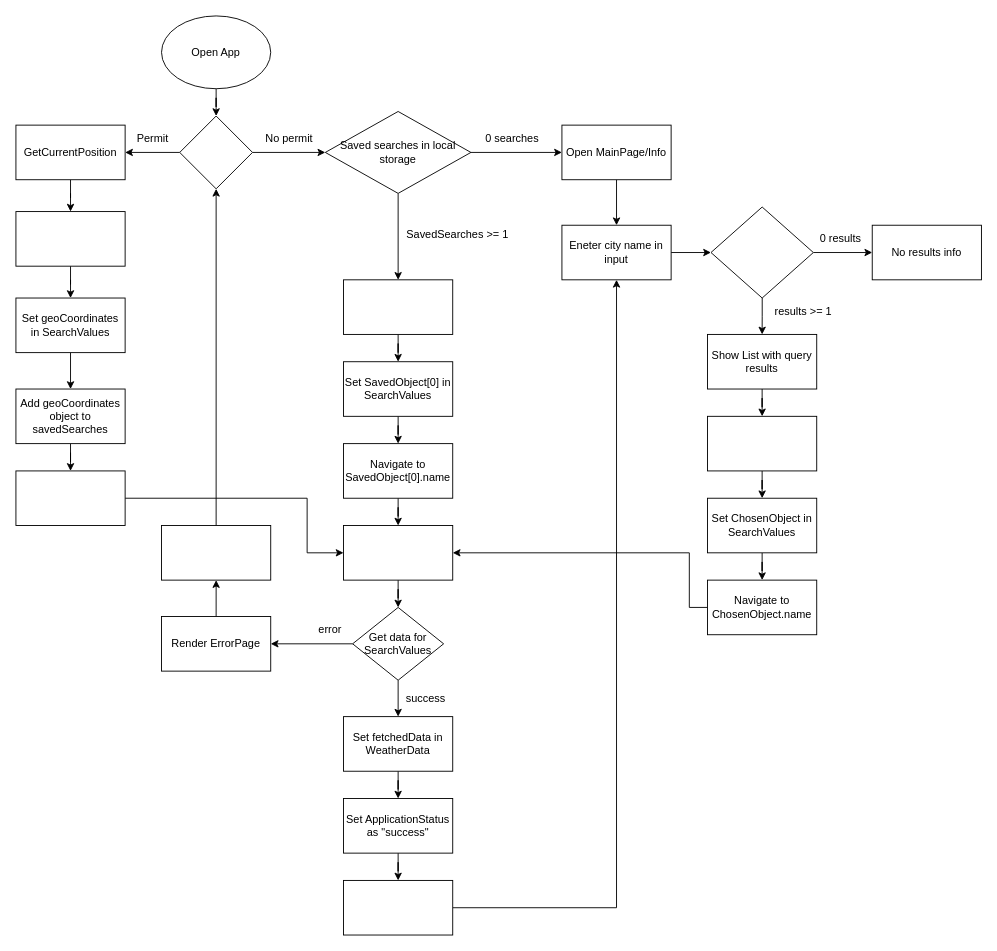
The diagram is 997 pixels wide and 951 high, and some of its shapes have lost their labels. The centre of each missing label's shape, as x and y in pixels:
Click at ChosenObject: [762,443]
Click MainPage button: [216,552]
Get autocomplete data for city name: [761,252]
Get SavedObject[0]: [398,306]
Navigate to geoCoordinates.name: [70,498]
Navigator Geolocation: [216,152]
Open WeatherPage: [398,552]
Render WeatherPage with fetchedData: [398,907]
SetGeoCoordinates: [70,238]
